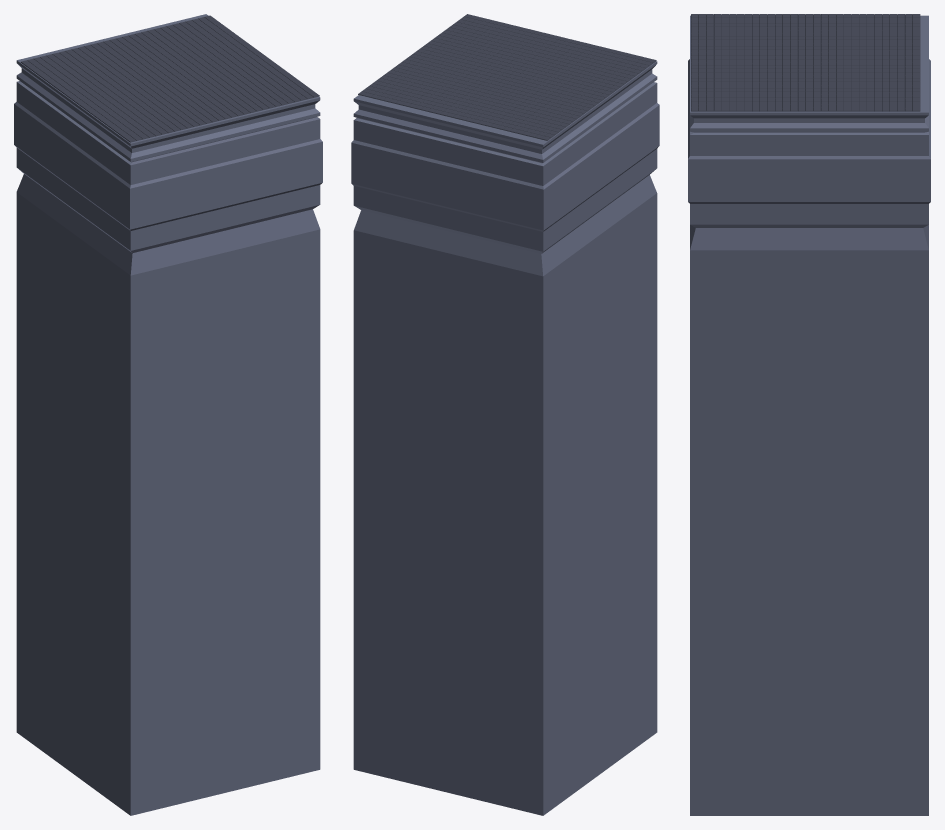
The model's file is block_a.fbx.
3 renders of one model, left to right at view 1: azimuth 30°, elevation 25°; view 2: azimuth 150°, elevation 25°; view 3: azimuth 270°, elevation 25°, orthographic. The views are drawn at different scales.
Visible parts, largest first — view 1: 00, Cube.094, Cube.076, Cube.059, Cube.112, Cube.097, Cube.098, Cube.096, Cube.095, Cube.099; view 2: 00, Cube.112, Cube.099, Cube.098, Cube.094, Cube.097, Cube.076, Cube.095, Cube.059, Cube.096; view 3: 00, Cube.059, Cube.098, Cube.095, Cube.097, Cube.076, Cube.096, Cube.099, Cube.094, Cube.112.
Boxes of the visible parts, x1,y1,x2,y2 form: 00: [14, 14, 322, 815]; Cube.094: [94, 100, 193, 142]; Cube.076: [157, 84, 256, 126]; Cube.059: [220, 69, 319, 111]; Cube.112: [20, 46, 119, 88]; Cube.097: [57, 73, 156, 115]; Cube.098: [147, 15, 246, 57]; Cube.096: [121, 57, 219, 99]; Cube.095: [184, 42, 282, 84]; Cube.099: [84, 31, 182, 72]; 00: [351, 61, 659, 815]; Cube.112: [484, 98, 583, 140]; Cube.099: [421, 83, 520, 125]; Cube.098: [358, 67, 456, 109]; Cube.094: [557, 45, 656, 87]; Cube.097: [521, 71, 619, 113]; Cube.076: [494, 29, 592, 71]; Cube.095: [394, 41, 493, 82]; Cube.059: [431, 14, 529, 55]; Cube.096: [458, 56, 556, 98]; 00: [688, 15, 930, 815]; Cube.059: [691, 78, 767, 111]; Cube.098: [844, 78, 920, 111]; Cube.095: [767, 78, 843, 111]; Cube.097: [767, 14, 843, 46]; Cube.076: [691, 46, 767, 78]; Cube.096: [767, 46, 843, 78]; Cube.099: [844, 46, 920, 78]; Cube.094: [691, 14, 767, 46]; Cube.112: [844, 14, 920, 46].
Bounding box in the file's own units: 609 × 2035 × 635.
